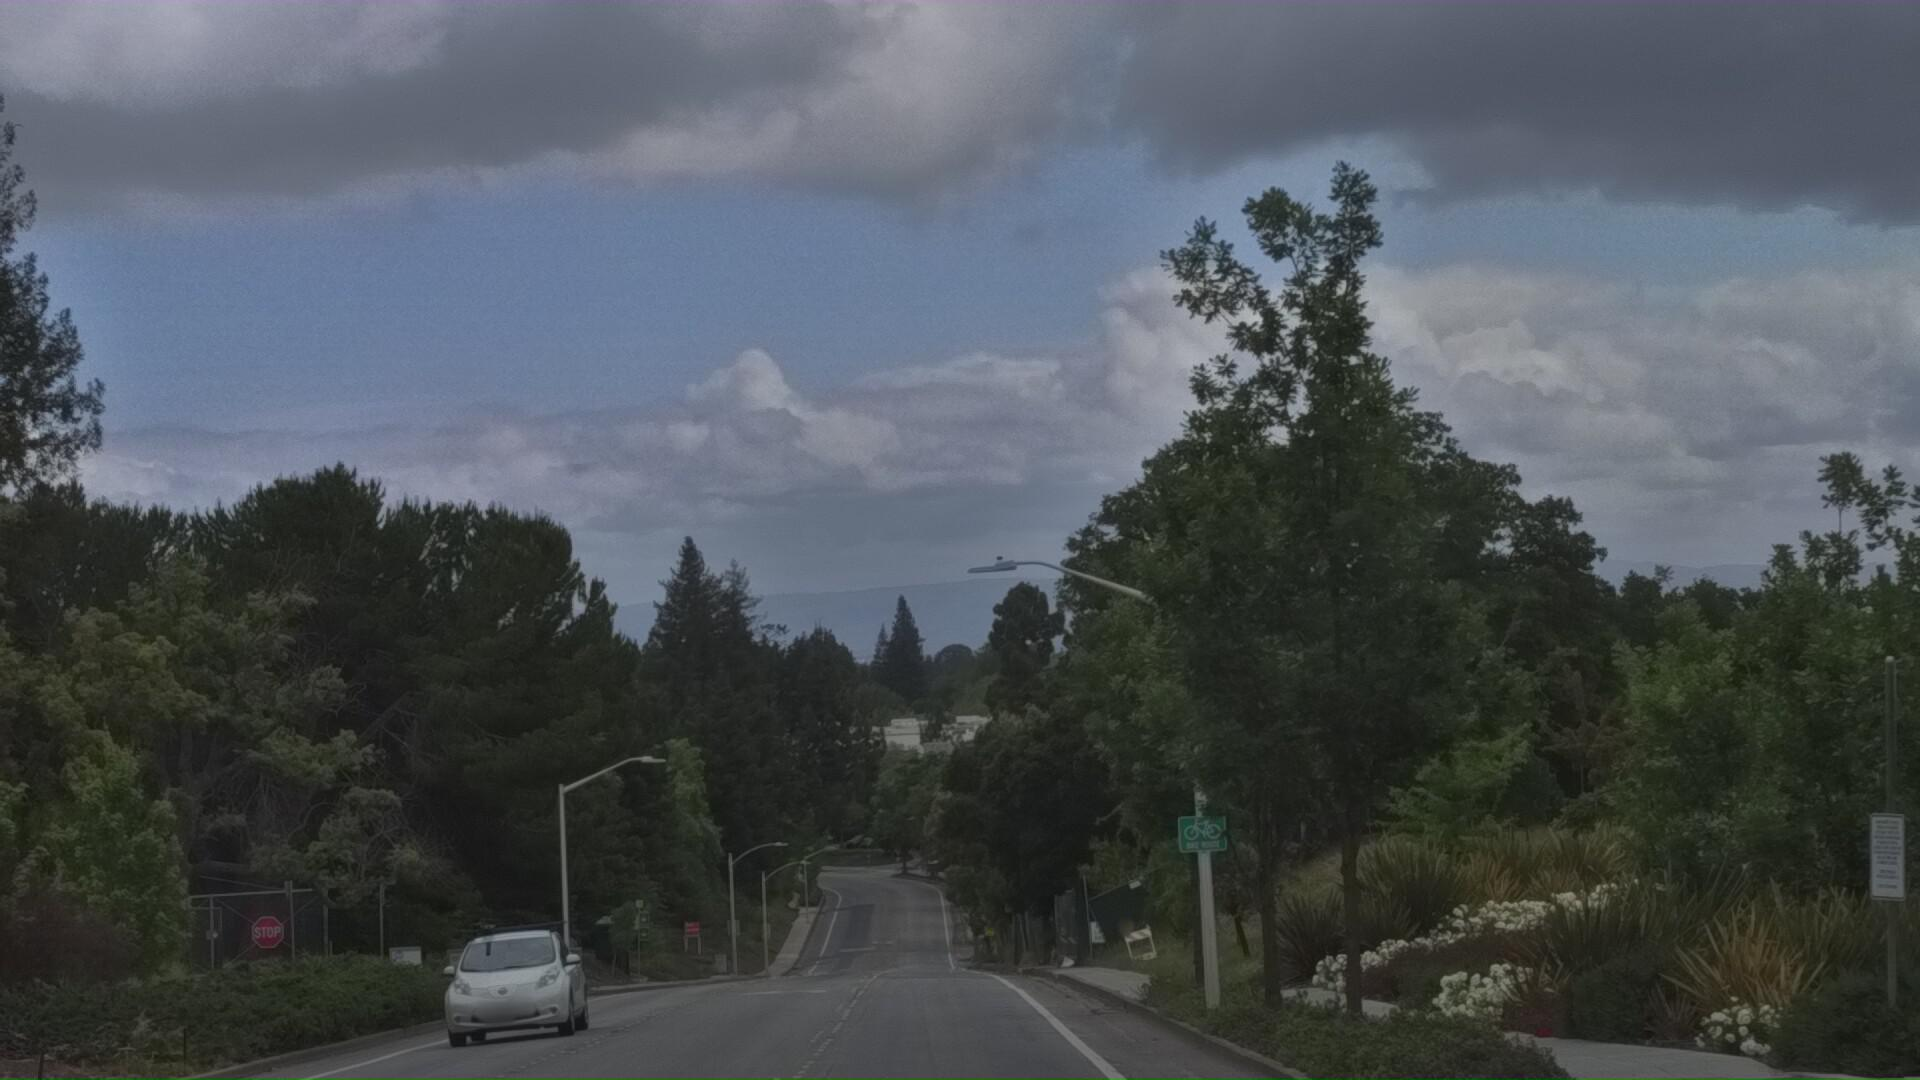car: (433, 947, 603, 1080)
